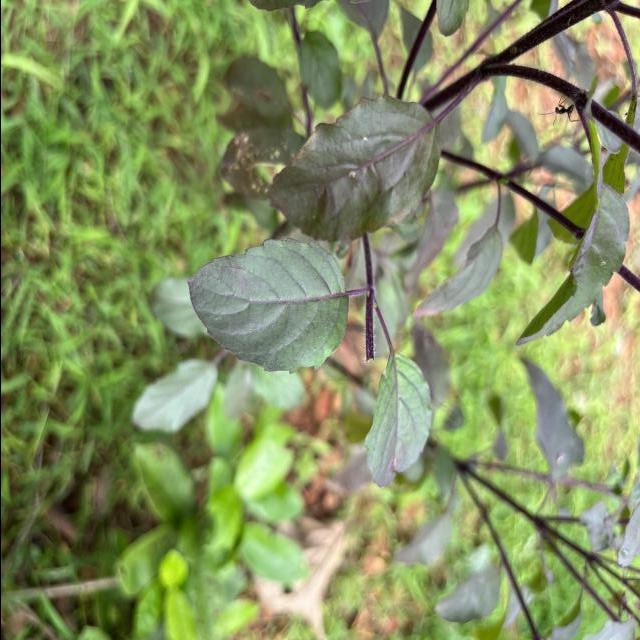Ocimum tenuiflorum: (182, 232, 352, 381)
